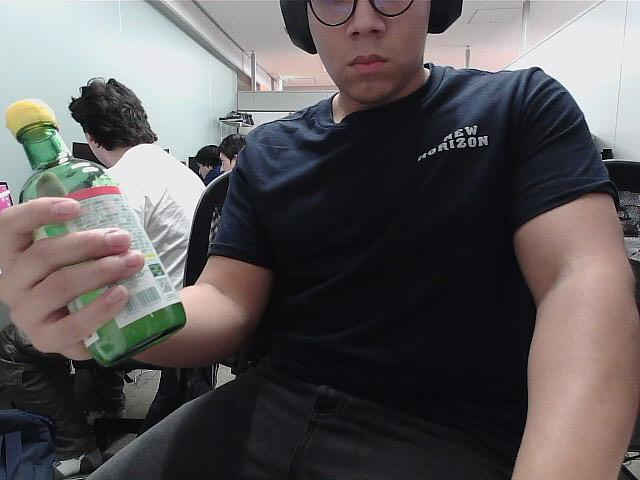Lemon_sapporo: (0, 100, 191, 362)
